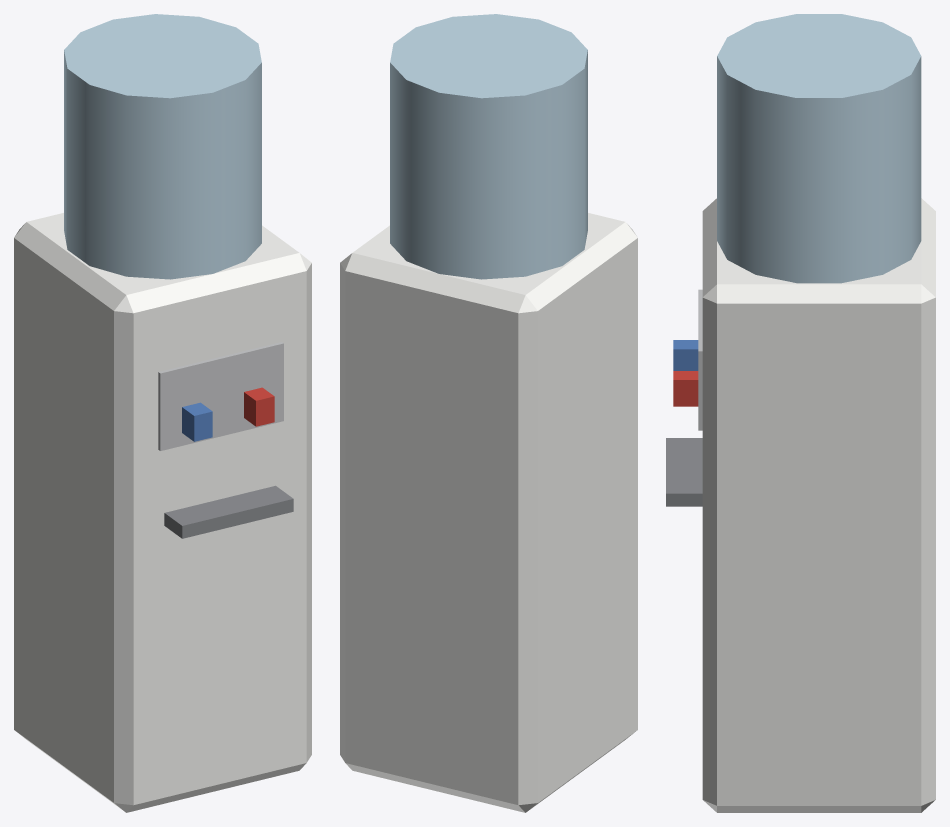
File: water_cooler.glb
3 views of the same model, side by side, from view 1: azimuth 30°, elevation 25°; view 2: azimuth 150°, elevation 25°; view 3: azimuth 270°, elevation 25° (orthographic). The views are drawn at different scales.
Visible parts, largest first — view 1: water_cooler; view 2: water_cooler; view 3: water_cooler.
Part boxes in pixels (x1,y1,x2,y2): water_cooler: (14,14,311,812); water_cooler: (340,14,637,812); water_cooler: (666,14,935,812).
Size of the model in its own units: 0.32 by 1.08 by 0.37.
1 material, 1 textured.
